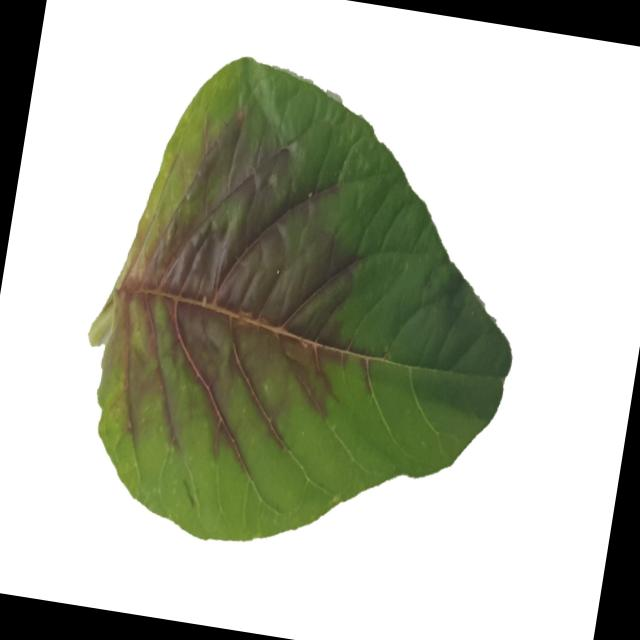Medicinal-Arive Dantu: (62, 36, 551, 579)
